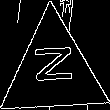N_W: (30, 50, 77, 92)
